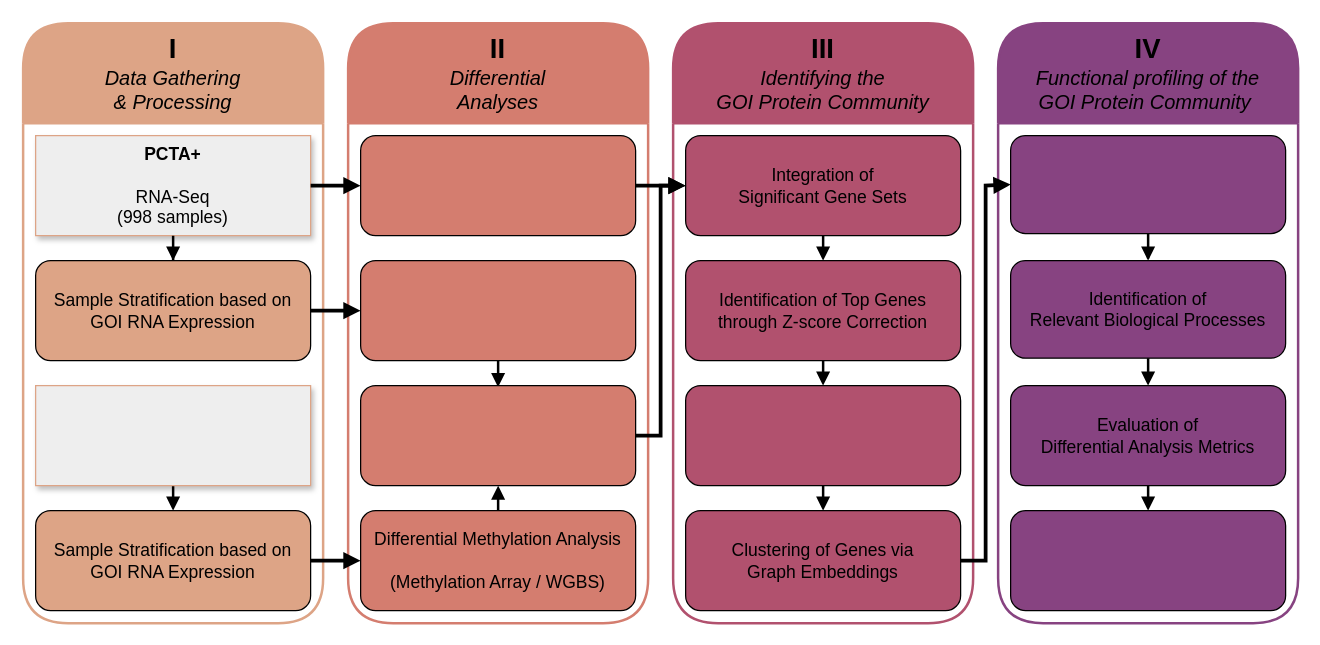
Some shapes in this 1320 by 645 pixel diagram are drawn without their labels. Here are the shapes that lost their labels. From the top down, the centre of each, then its label:
At point (497, 185): "Differential Gene Set Variation Analysis (D-GSVA)".
At point (1147, 184): "Gene Set Over-representation Analysis".
At point (497, 310): "Differential Expression Analysis (RNA-Seq)".
At point (173, 436): "TCGA-PRAD / WCDT-MCRPC RNA-Seq & DNA Methylation (596 paired samples)".
At point (497, 435): "Gene Set Enrichment Analysis (GSEA)".
At point (822, 435): "PPI Network Analysis of Top Genes in Gene Sets".
At point (1147, 560): "Filtering of potentially Relevant Targets".
